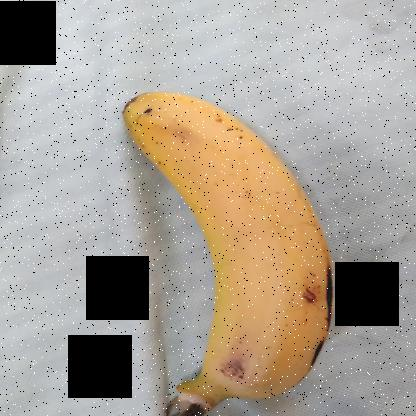ripe: (103, 81, 346, 406)
